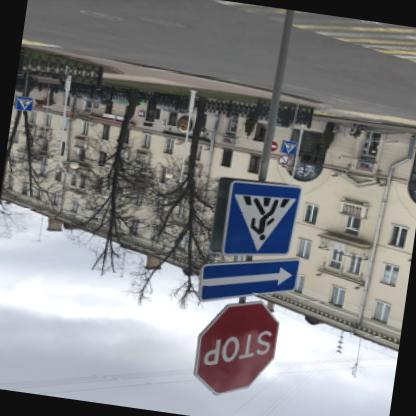crosswalk: (223, 177, 305, 264)
stop: (192, 292, 286, 404)
